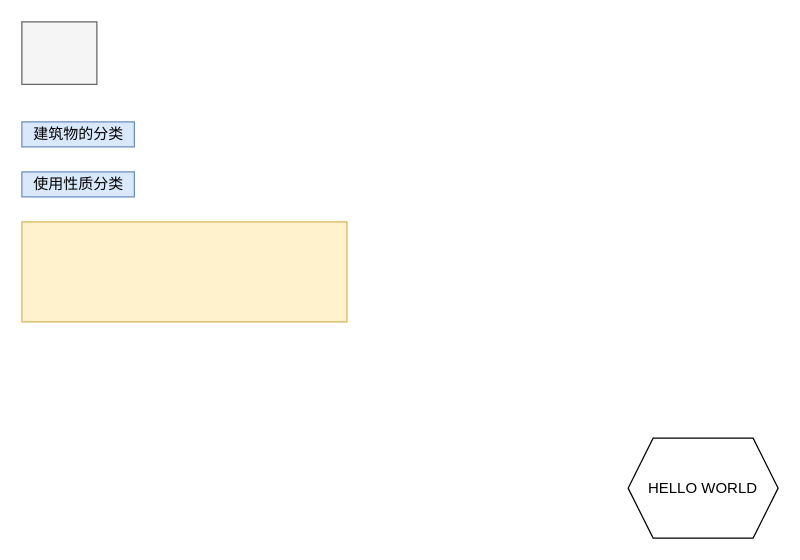
The diagram is 800 pixels wide and 560 high, and some of its shapes have lost their labels. The centre of each missing label's shape, as x and y in pixels:
居住建筑：住宅、宿舍、招待所等 Value 2 Value 3: the point at 184,271
建筑构造: the point at 59,52
